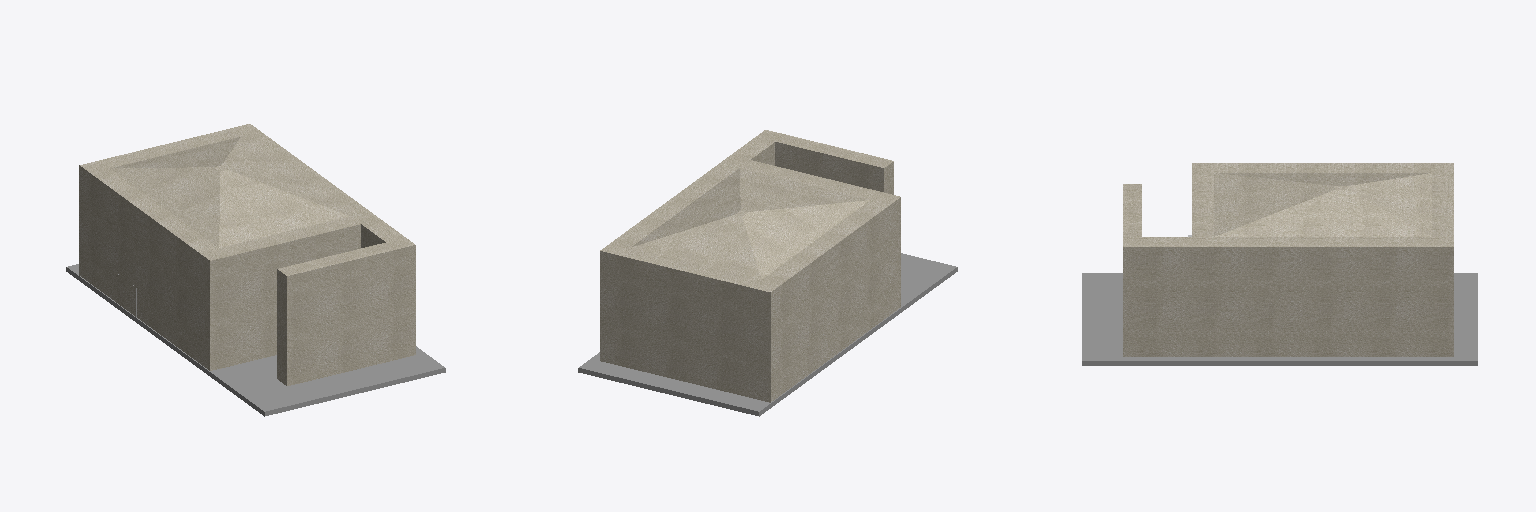
3 renders of one model, left to right at view 1: azimuth 30°, elevation 25°; view 2: azimuth 150°, elevation 25°; view 3: azimuth 270°, elevation 25°, orthographic.
Visible parts, largest first — view 1: Cube.001, Cube.003_Cube.004; view 2: Cube.001, Cube.003_Cube.004; view 3: Cube.001, Cube.003_Cube.004.
Boxes of the visible parts, <box> form: Cube.001: <box>79,124,415,385</box>; Cube.003_Cube.004: <box>66,264,445,416</box>; Cube.001: <box>600,130,900,402</box>; Cube.003_Cube.004: <box>578,253,957,416</box>; Cube.001: <box>1123,163,1453,356</box>; Cube.003_Cube.004: <box>1082,273,1477,365</box>.
Size of the model in its own units: 20.97 by 14.64 by 39.76.
5 materials, 2 textured.